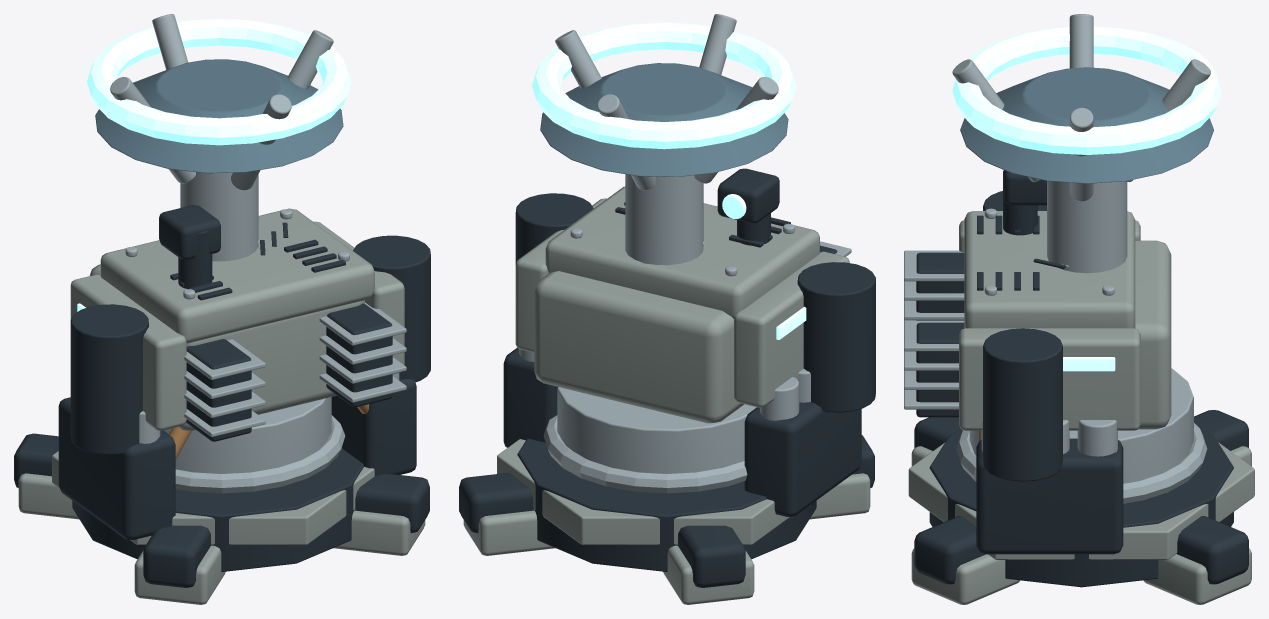
Rendered from 09_fieldcontrol_pulse.glb.
3 renders of one model, left to right at view 1: azimuth 30°, elevation 25°; view 2: azimuth 150°, elevation 25°; view 3: azimuth 270°, elevation 25°, orthographic.
Visible parts, largest first — view 1: Recessed bearing, Armored cradle, Cooling vent, Rivet, Dish, Identification strip, Armored footing, Bearing; view 2: Armored cradle, Recessed bearing, Bearing, Cooling vent, Identification strip, Dish, Armored footing, Rivet; view 3: Recessed bearing, Armored cradle, Cooling vent, Rivet, Identification strip, Dish, Armored footing, Bearing.
Part boxes in pixels (bbox=[...]): Recessed bearing: bbox=[14, 379, 429, 587]; Armored cradle: bbox=[70, 208, 404, 430]; Cooling vent: bbox=[70, 205, 430, 454]; Rivet: bbox=[110, 14, 406, 436]; Dish: bbox=[95, 59, 343, 173]; Identification strip: bbox=[77, 18, 351, 311]; Armored footing: bbox=[18, 451, 425, 604]; Bearing: bbox=[139, 373, 399, 493]; Armored cradle: bbox=[515, 186, 849, 423]; Recessed bearing: bbox=[459, 348, 874, 587]; Bearing: bbox=[519, 349, 810, 493]; Cooling vent: bbox=[515, 168, 875, 412]; Identification strip: bbox=[532, 22, 806, 339]; Dish: bbox=[540, 63, 788, 176]; Armored footing: bbox=[463, 439, 870, 604]; Rivet: bbox=[555, 14, 851, 276]; Recessed bearing: bbox=[914, 410, 1248, 587]; Armored cradle: bbox=[959, 211, 1171, 430]; Cooling vent: bbox=[916, 170, 1065, 481]; Rivet: bbox=[904, 14, 1210, 409]; Identification strip: bbox=[952, 26, 1221, 371]; Dish: bbox=[960, 67, 1213, 183]; Armored footing: bbox=[908, 442, 1254, 604]; Bearing: bbox=[956, 368, 1207, 503].
Size of the model in its own units: 1.54 by 1.96 by 1.31.
